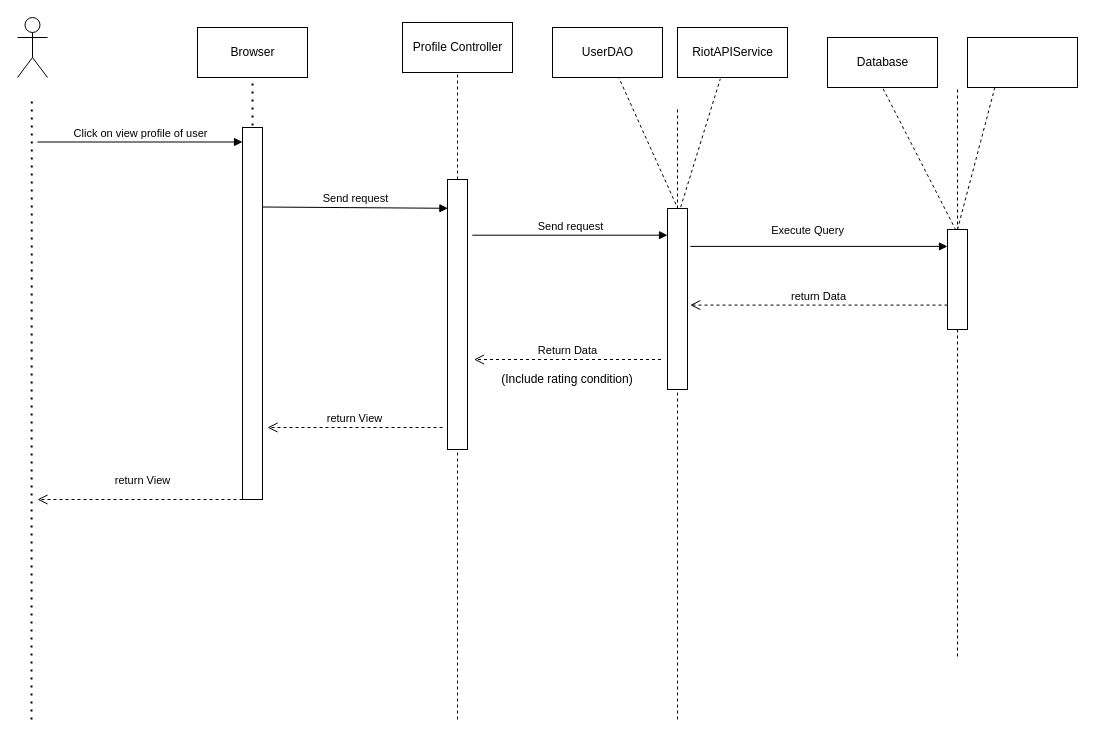
Image size: 1095x739. Some labels were removed from this diagram. The shapes that lost their labels are listed below. From the top down, each one's centre as x and y in pixels, then its label:
At [32,47]: "Actor".
At [1022,62]: "Riot API (Third party)".
